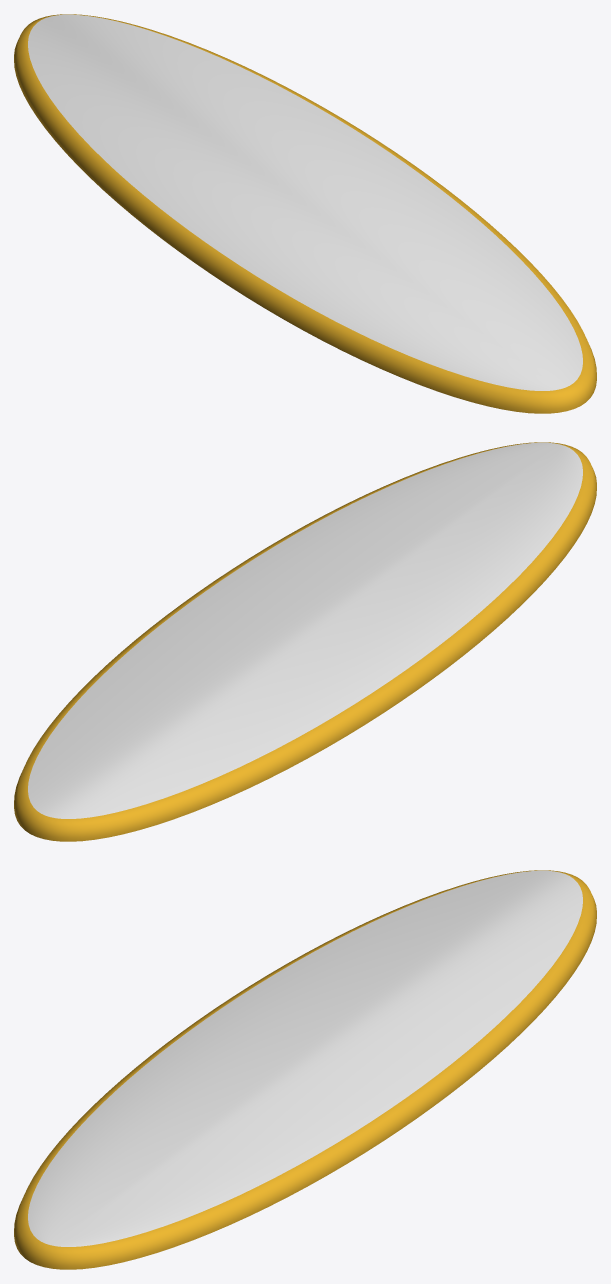
The model's file is schild.fbx.
3 renders of one model, top to bottom at view 1: azimuth 30°, elevation 25°; view 2: azimuth 150°, elevation 25°; view 3: azimuth 330°, elevation 25°, orthographic.
Parts seen in each view (by area): view 1: NurbsCircle; view 2: NurbsCircle; view 3: NurbsCircle.
Boxes of the visible parts, box(x1,y1,x2,y2) form: NurbsCircle: box(14, 14, 596, 413); NurbsCircle: box(14, 442, 596, 841); NurbsCircle: box(14, 870, 596, 1269).
Bounding box in the file's own units: 116 × 7.3 × 413.
